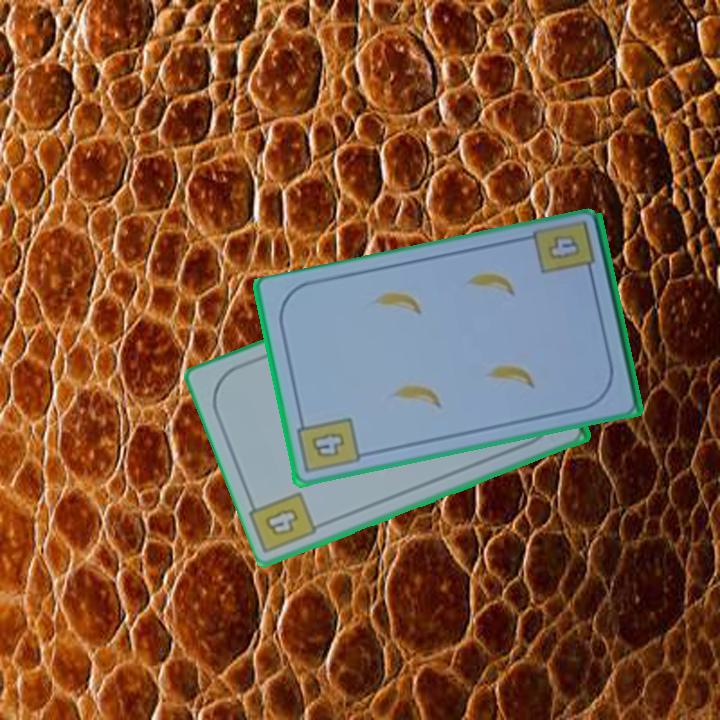4b: (294, 413, 363, 477), (261, 505, 301, 540), (543, 231, 583, 263)
